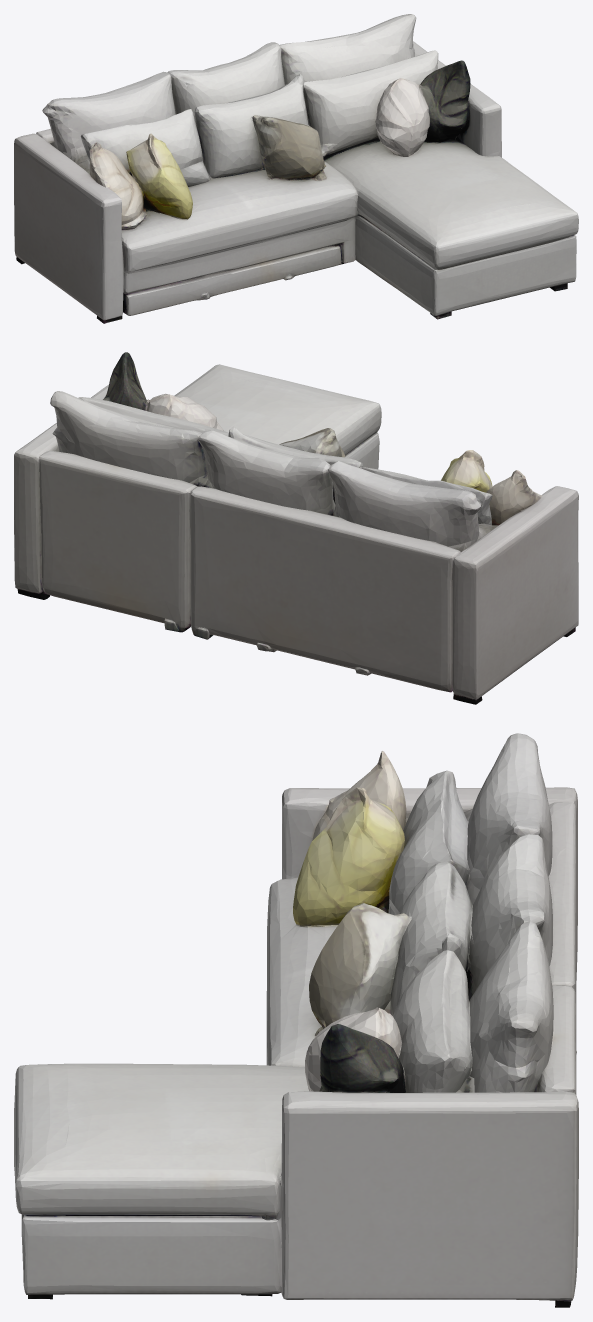
File: SOFA CAMA ASHA SNOW.glb
3 views of the same model, one above another, from view 1: azimuth 30°, elevation 25°; view 2: azimuth 150°, elevation 25°; view 3: azimuth 270°, elevation 25° (orthographic). The views are drawn at different scales.
Visible parts, largest first — view 1: world; view 2: world; view 3: world.
Boxes of the visible parts, bbox=[...] form: world: bbox=[14, 14, 578, 323]; world: bbox=[14, 352, 578, 704]; world: bbox=[14, 733, 578, 1307].
Bounding box in the file's own units: 1 × 0.3996 × 0.7438.
Materials: 1 (1 with a texture image).
